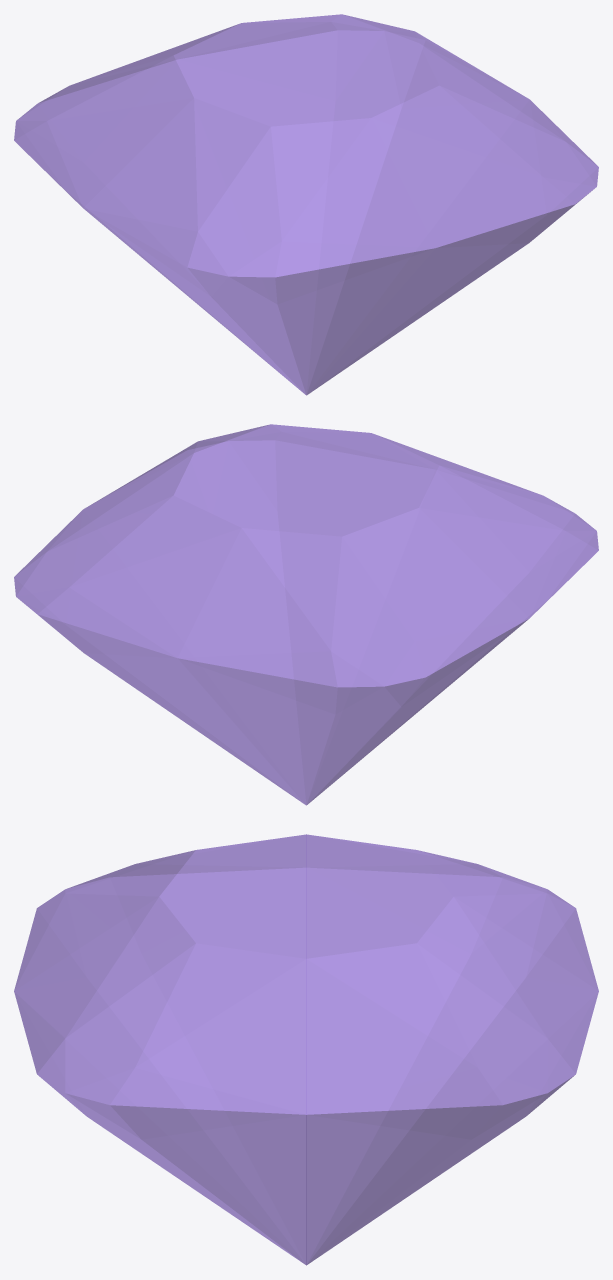
The model's file is Gem_New_02.fbx.
The picture shows the model from 3 angles, top to bottom: view 1: azimuth 30°, elevation 25°; view 2: azimuth 150°, elevation 25°; view 3: azimuth 270°, elevation 25°; orthographic projection. The views are drawn at different scales.
Parts seen in each view (by area): view 1: Model; view 2: Model; view 3: Model.
Part boxes in pixels (x1,y1,x2,y2): Model: (14,14,598,395); Model: (14,424,598,805); Model: (14,834,598,1265).
Size of the model in its own units: 85.07 by 59.2 by 85.07.
